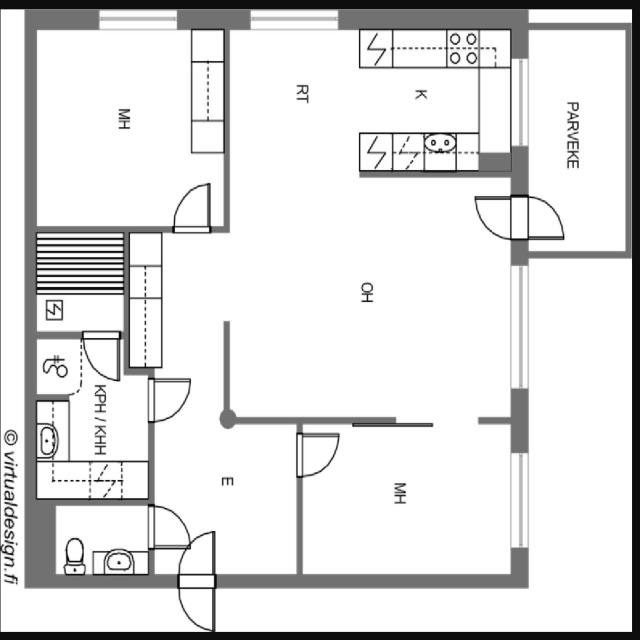door: (174, 524, 219, 633), (166, 174, 217, 239), (291, 424, 346, 479), (512, 190, 570, 240), (78, 326, 125, 384), (144, 372, 193, 425), (145, 500, 192, 552), (470, 192, 519, 240)
window: (499, 257, 537, 400), (503, 442, 537, 559), (245, 6, 344, 38), (94, 6, 184, 38), (509, 54, 532, 154)
zone: (228, 25, 513, 415), (28, 26, 208, 229), (299, 421, 519, 581), (148, 412, 307, 581), (518, 21, 632, 252), (31, 331, 152, 498), (133, 227, 230, 373), (26, 500, 153, 580), (33, 228, 126, 334)
